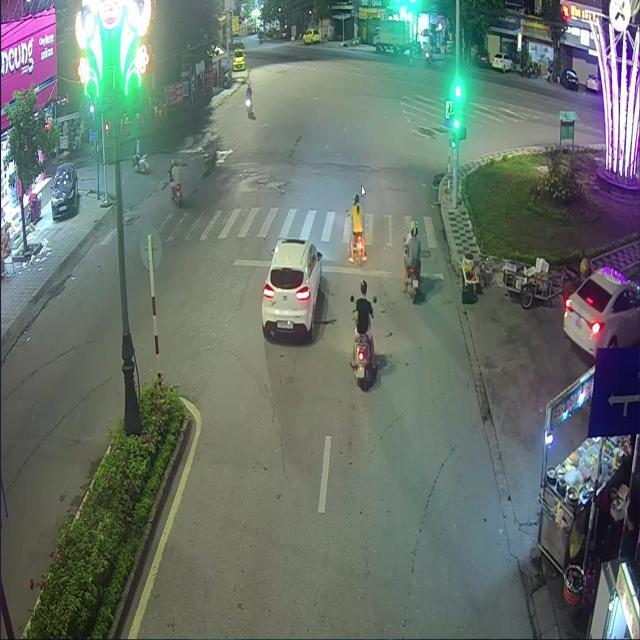car: (562, 270, 639, 357), (260, 237, 322, 339)
green_light: (452, 99, 459, 128)
motobike: (353, 333, 374, 388), (405, 264, 420, 301), (353, 233, 365, 261), (170, 182, 182, 206)
stop_line: (231, 258, 442, 280)
